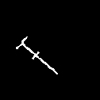double_crochet: (16, 37, 57, 73)
